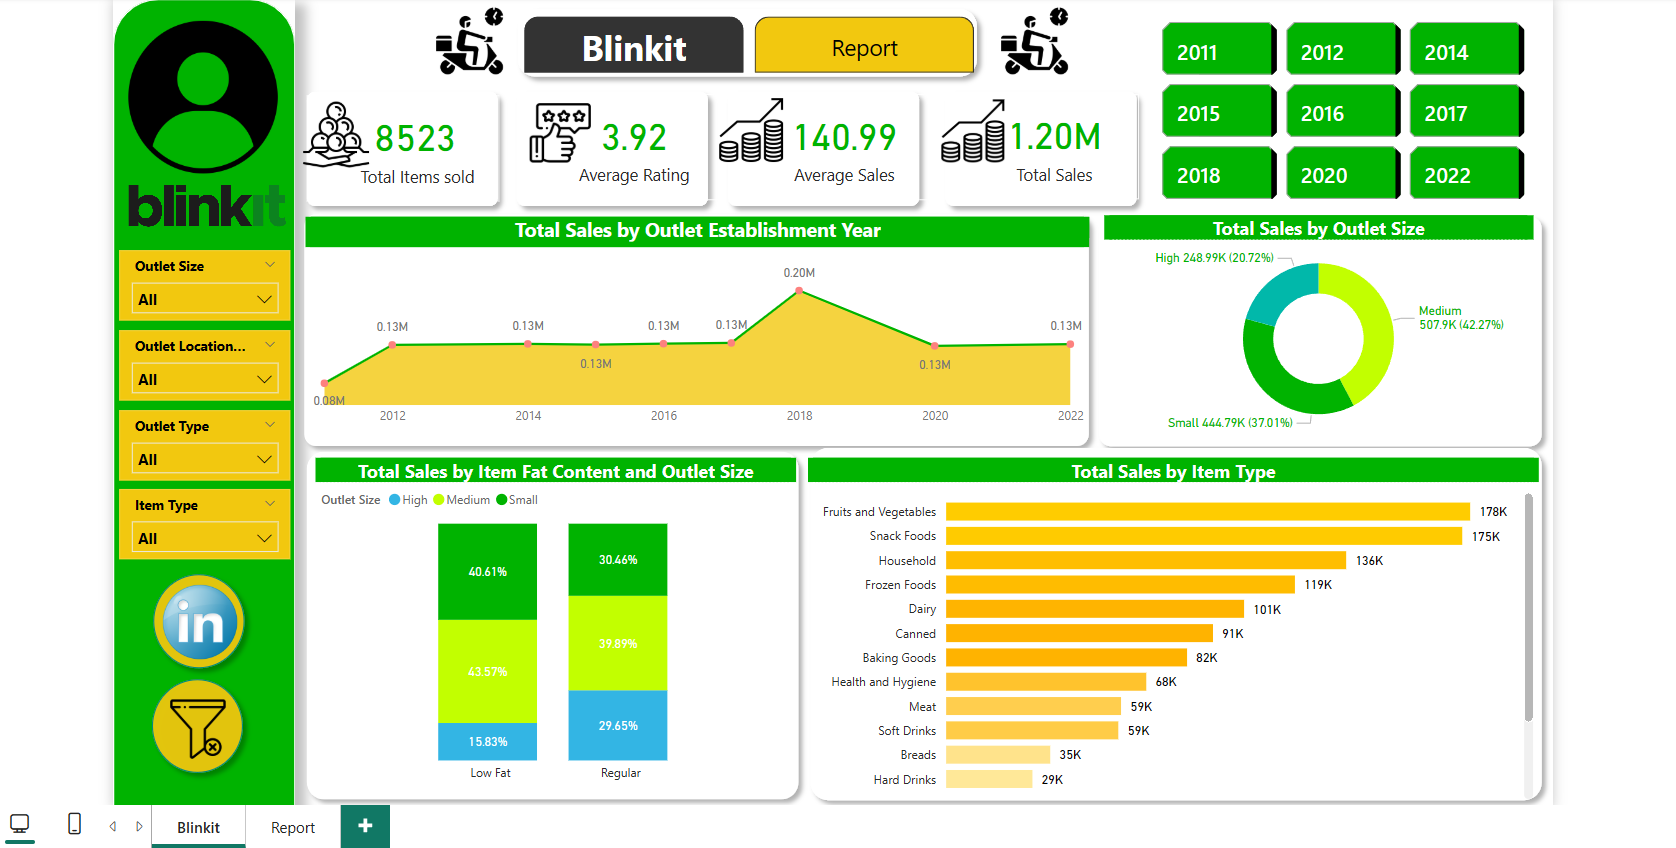

Layout of this report page (visuals, bound fields, positions):
{"tool":"powerbi","page":{"name":"Blinkit ","canvas":[1280,720],"ordinal":0},"visuals":[{"type":"shape","box":[0,0,162,720.2],"z":0},{"type":"shape","box":[349.2,73.7,187.8,119.7],"z":0,"group":"g6"},{"type":"slicer","fields":{"Values":["BlinkIT Grocery Data.Outlet Size"]},"box":[5.6,223,152.1,62.6],"z":0,"group":"g1"},{"type":"shape","box":[25.1,596,99,101.4],"z":500,"group":"g7"},{"type":"advancedSlicerVisual","fields":{"Values":["BlinkIT Grocery Data.Outlet Establishment Year"]},"box":[928,15.3,333.9,169.7],"z":1000},{"type":"shape","box":[161.4,182.3,715.1,224],"z":1000,"group":"g3"},{"type":"slicer","fields":{"Values":["BlinkIT Grocery Data.Outlet Location Type"]},"box":[5.6,293.9,152.1,62.6],"z":1000,"group":"g1"},{"type":"shape","box":[25.9,502.6,99.4,101.8],"z":1000,"group":"g7"},{"type":"group","id":"g1","title":"Group 2","box":[5.6,223,152.1,274.8],"z":2000},{"type":"slicer","fields":{"Values":["BlinkIT Grocery Data.Outlet Type"]},"box":[5.6,364.7,152.1,62.6],"z":2000,"group":"g1"},{"type":"shape","box":[162.8,393.7,455,327],"z":2000,"group":"g5"},{"type":"image","box":[37.6,502.7,79.7,103.7],"z":2000,"group":"g7"},{"type":"group","id":"g2","title":"Group 4","box":[867.5,184.1,411,222.1],"z":3000},{"type":"shape","box":[610.8,389.6,667.8,331.1],"z":3000,"group":"g4"},{"type":"slicer","fields":{"Values":["BlinkIT Grocery Data.Item Type"]},"box":[5.6,435.6,152.1,62.6],"z":3000,"group":"g1"},{"type":"group","id":"g3","title":"Group 5","box":[161.4,182.3,715.1,224],"z":4000},{"type":"lineChart","title":"Total Sales by Outlet Establishment Year","fields":{"Y":["Sum(BlinkIT Grocery Data.Sales)"],"Category":["BlinkIT Grocery Data.Outlet Establishment Year"]},"box":[171.1,193.4,697,194.8],"z":5000,"group":"g3"},{"type":"group","id":"g4","title":"Group 6","box":[610.8,389.6,667.8,331.1],"z":5000},{"type":"group","id":"g5","title":"Group 7","box":[162.8,393.7,455,327],"z":6000},{"type":"hundredPercentStackedColumnChart","title":"Total Sales by Item Fat Content and Outlet Size","fields":{"Y":["Sum(BlinkIT Grocery Data.Sales)"],"Category":["BlinkIT Grocery Data.Item Fat Content"],"Series":["BlinkIT Grocery Data.Outlet Size"]},"box":[179.8,408,427.1,297.7],"z":6000,"group":"g5"},{"type":"image","box":[41,618.1,68.3,62.9],"z":6000,"group":"g7"},{"type":"group","id":"g6","title":"Group 1","box":[162.8,73.7,755.5,119.7],"z":7000},{"type":"barChart","title":"Total Sales by Item Type","fields":{"Category":["BlinkIT Grocery Data.Item Type"],"Y":["Sum(BlinkIT Grocery Data.Sales)"]},"box":[617.8,407.7,649.7,308.9],"z":7000,"group":"g4"},{"type":"shape","box":[867.5,184.1,411,222.1],"z":8000,"group":"g2"},{"type":"group","id":"g7","title":"Group 3","box":[25.1,502.6,100.2,194.8],"z":8000},{"type":"image","box":[140.5,84.9,116.9,72.3],"z":9000},{"type":"donutChart","title":"Total Sales by Outlet Size","fields":{"Category":["BlinkIT Grocery Data.Outlet Size"],"Y":["Sum(BlinkIT Grocery Data.Sales)"]},"box":[880.7,192.4,381.2,201.7],"z":9000,"group":"g2"},{"type":"image","box":[720.7,84.9,86.3,66],"z":10000},{"type":"image","box":[524.5,83.5,86.3,66.8],"z":11000},{"type":"image","box":[5.6,154.4,157.2,58.4],"z":12000},{"type":"image","box":[365.9,87.7,64,62.6],"z":13000},{"type":"image","box":[4.2,9.7,151.7,154.4],"z":14000},{"type":"image","box":[171.1,0,290.8,76.5],"z":15000,"group":"g8"},{"type":"shape","box":[162.8,73.7,187.8,119.7],"z":15000,"group":"g6"},{"type":"shape","box":[350.6,0,425.7,77.9],"z":16000,"group":"g8"},{"type":"shape","box":[537.1,73.7,187.8,119.7],"z":16000,"group":"g6"},{"type":"pageNavigator","box":[365.9,15.3,400.7,50.1],"z":17000,"group":"g8"},{"type":"shape","box":[730.5,73.7,187.8,119.7],"z":17000,"group":"g6"},{"type":"image","box":[673.4,0,290.8,76.5],"z":17001,"group":"g8"},{"type":"group","id":"g8","title":"Group 8","box":[171.1,0,793,77.9],"z":17002},{"type":"card","fields":{"Values":["Avg(BlinkIT Grocery Data.Rating)"]},"box":[366.2,84.8,171.6,94.6],"z":17500,"group":"g6"},{"type":"card","fields":{"Values":["Avg(BlinkIT Grocery Data.Sales)"]},"box":[552.9,84.8,171.6,94.6],"z":18000,"group":"g6"},{"type":"card","fields":{"Values":["CountNonNull(BlinkIT Grocery Data.Item Type)"]},"box":[171.1,86.2,171.1,94.6],"z":18500,"group":"g6"},{"type":"card","title":"TOTAL SALES","fields":{"Values":["Sum(BlinkIT Grocery Data.Sales)"]},"box":[739.7,84.8,171.6,93.3],"z":19000,"group":"g6"}]}

Visuals, with their boxes on the page's 1280x720 design canvas (x1, y1, x2, y2). These are canvas units, not pixel positions in the 1676x848 screenshot, which may show the page scaled, cropped or inside an application window:
shape: bbox(0, 0, 162, 720)
shape: bbox(349, 74, 537, 193)
slicer - BlinkIT Grocery Data.Outlet Size: bbox(6, 223, 158, 286)
shape: bbox(25, 596, 124, 697)
advancedSlicerVisual - BlinkIT Grocery Data.Outlet Establishment Year: bbox(928, 15, 1262, 185)
shape: bbox(161, 182, 876, 406)
slicer - BlinkIT Grocery Data.Outlet Location Type: bbox(6, 294, 158, 356)
shape: bbox(26, 503, 125, 604)
"Group 2" group: bbox(6, 223, 158, 498)
slicer - BlinkIT Grocery Data.Outlet Type: bbox(6, 365, 158, 427)
shape: bbox(163, 394, 618, 721)
image: bbox(38, 503, 117, 606)
"Group 4" group: bbox(868, 184, 1278, 406)
shape: bbox(611, 390, 1279, 721)
slicer - BlinkIT Grocery Data.Item Type: bbox(6, 436, 158, 498)
"Group 5" group: bbox(161, 182, 876, 406)
"Total Sales by Outlet Establishment Year" lineChart: bbox(171, 193, 868, 388)
"Group 6" group: bbox(611, 390, 1279, 721)
"Group 7" group: bbox(163, 394, 618, 721)
"Total Sales by Item Fat Content and Outlet Size" hundredPercentStackedColumnChart: bbox(180, 408, 607, 706)
image: bbox(41, 618, 109, 681)
"Group 1" group: bbox(163, 74, 918, 193)
"Total Sales by Item Type" barChart: bbox(618, 408, 1268, 717)
shape: bbox(868, 184, 1278, 406)
"Group 3" group: bbox(25, 503, 125, 697)
image: bbox(140, 85, 257, 157)
"Total Sales by Outlet Size" donutChart: bbox(881, 192, 1262, 394)
image: bbox(721, 85, 807, 151)
image: bbox(524, 84, 611, 150)
image: bbox(6, 154, 163, 213)
image: bbox(366, 88, 430, 150)
image: bbox(4, 10, 156, 164)
image: bbox(171, 0, 462, 76)
shape: bbox(163, 74, 351, 193)
shape: bbox(351, 0, 776, 78)
shape: bbox(537, 74, 725, 193)
pageNavigator: bbox(366, 15, 767, 65)
shape: bbox(730, 74, 918, 193)
image: bbox(673, 0, 964, 76)
"Group 8" group: bbox(171, 0, 964, 78)
card - Avg(BlinkIT Grocery Data.Rating): bbox(366, 85, 538, 179)
card - Avg(BlinkIT Grocery Data.Sales): bbox(553, 85, 724, 179)
card - CountNonNull(BlinkIT Grocery Data.Item Type): bbox(171, 86, 342, 181)
"TOTAL SALES" card: bbox(740, 85, 911, 178)
